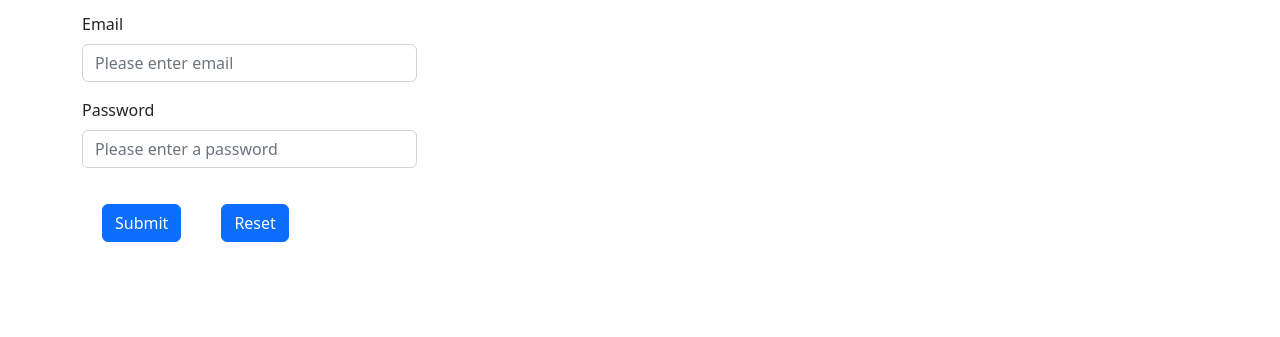
it: Test the Login Component › should be able to submit the form
Type "ramzi@gmail.com" into the field with placeholder "Please enter email" at (249, 63), box [82,44,417,82]
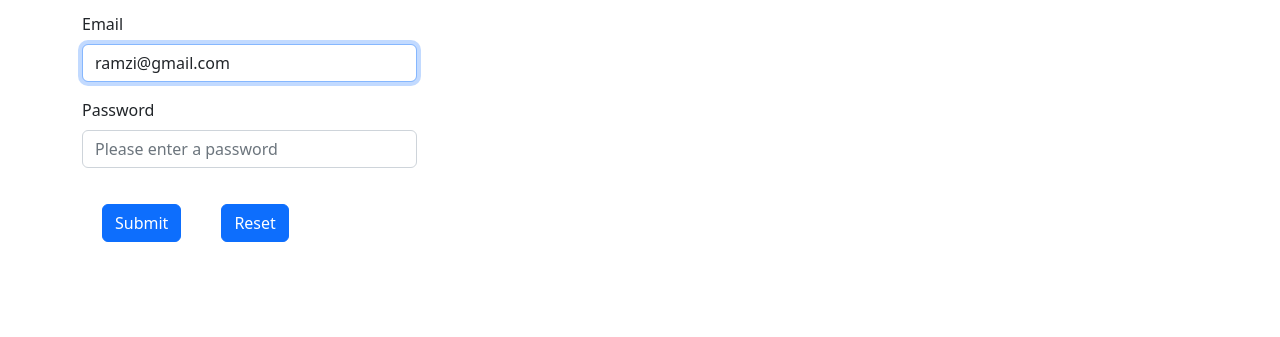
Type "react" into the password field with placeholder "Please enter a password" at (249, 149), box [82,130,417,168]
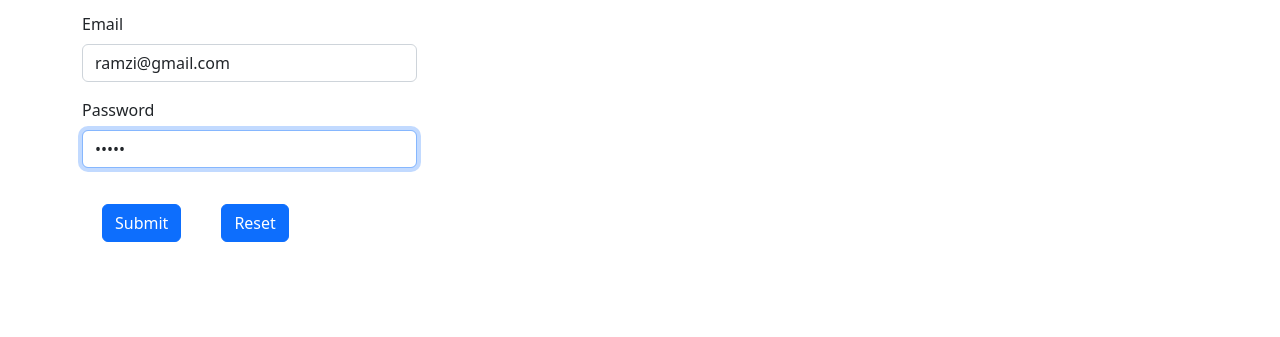
Click the button with test id "submit" at (142, 223), box [102,204,181,242]
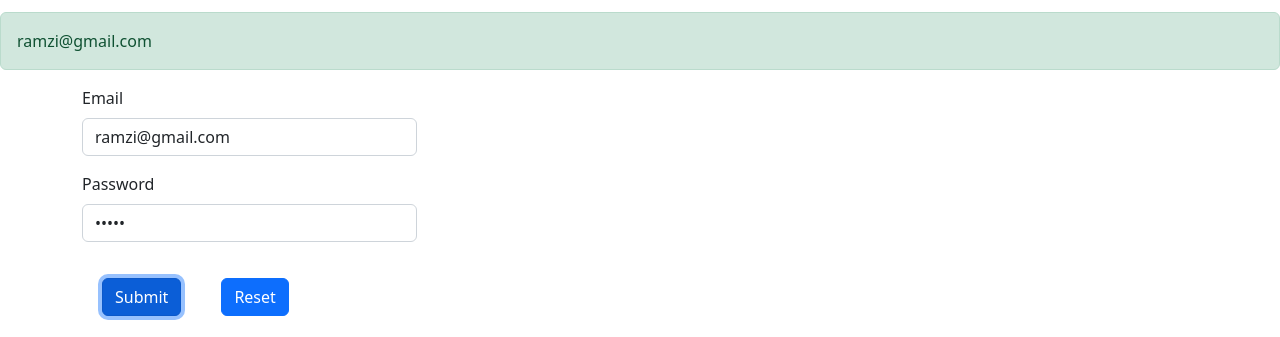
expect the text "ramzi@gmail.com" is shown: met, box [0,12,1279,70]
